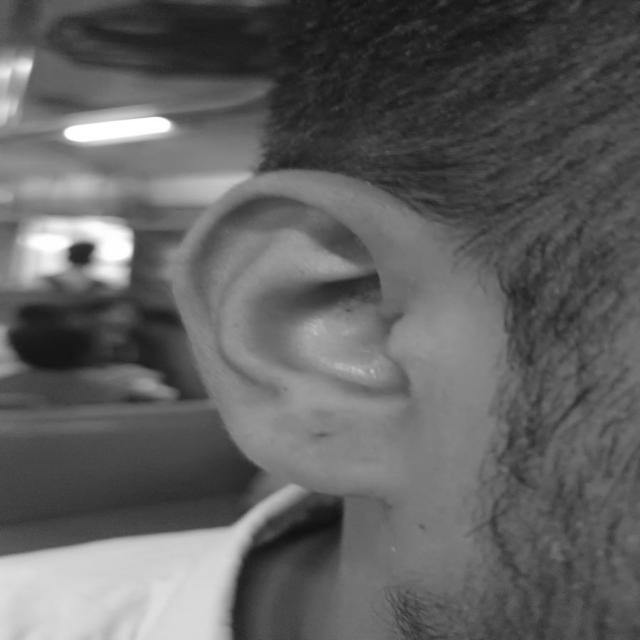ear: (173, 171, 427, 498), (424, 260, 427, 269), (434, 238, 436, 246)
